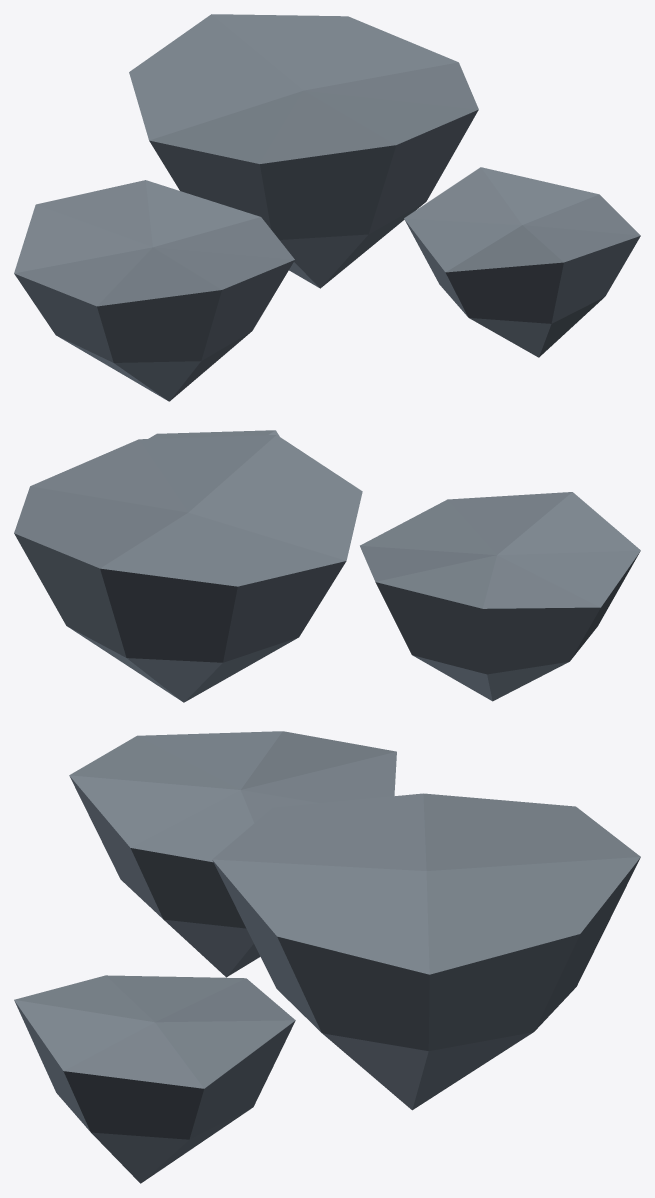
File: stepping_stone_cluster.glb
3 renders of one model, top to bottom at view 1: azimuth 30°, elevation 25°; view 2: azimuth 150°, elevation 25°; view 3: azimuth 270°, elevation 25°, orthographic. The views are drawn at different scales.
Parts seen in each view (by area): view 1: Stepping_Stone_Cluster; view 2: Stepping_Stone_Cluster; view 3: Stepping_Stone_Cluster.
Boxes of the visible parts, <box> form: Stepping_Stone_Cluster: <box>14,14,640,401</box>; Stepping_Stone_Cluster: <box>14,430,640,702</box>; Stepping_Stone_Cluster: <box>14,731,640,1183</box>.
Size of the model in its own units: 5.3 by 2 by 4.39.
